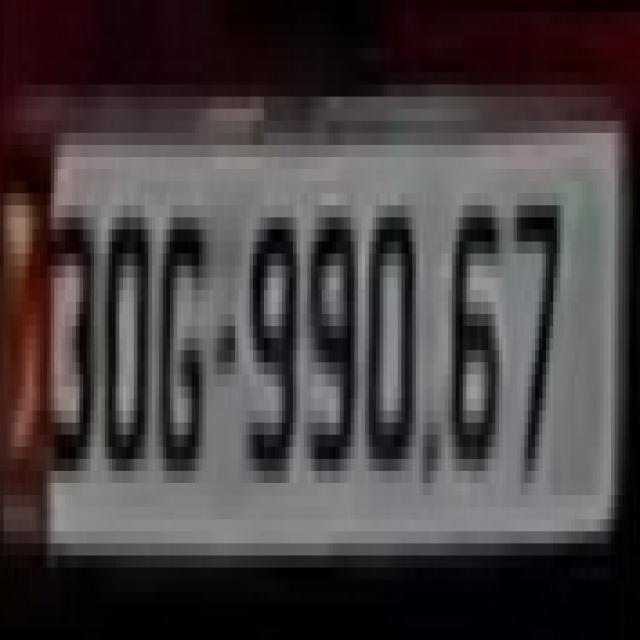0: (101, 205, 152, 483), (365, 205, 416, 471)
3: (51, 199, 94, 477)
6: (448, 193, 502, 471)
7: (510, 181, 564, 495)
9: (246, 205, 296, 483), (308, 205, 354, 471)
G: (159, 205, 206, 483)
